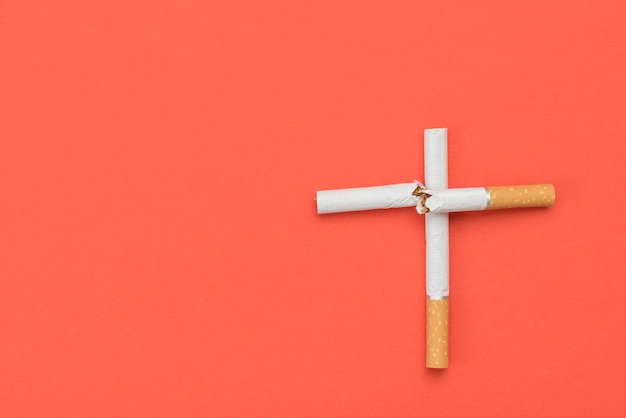cigarette: (314, 182, 556, 213), (421, 125, 450, 371)
